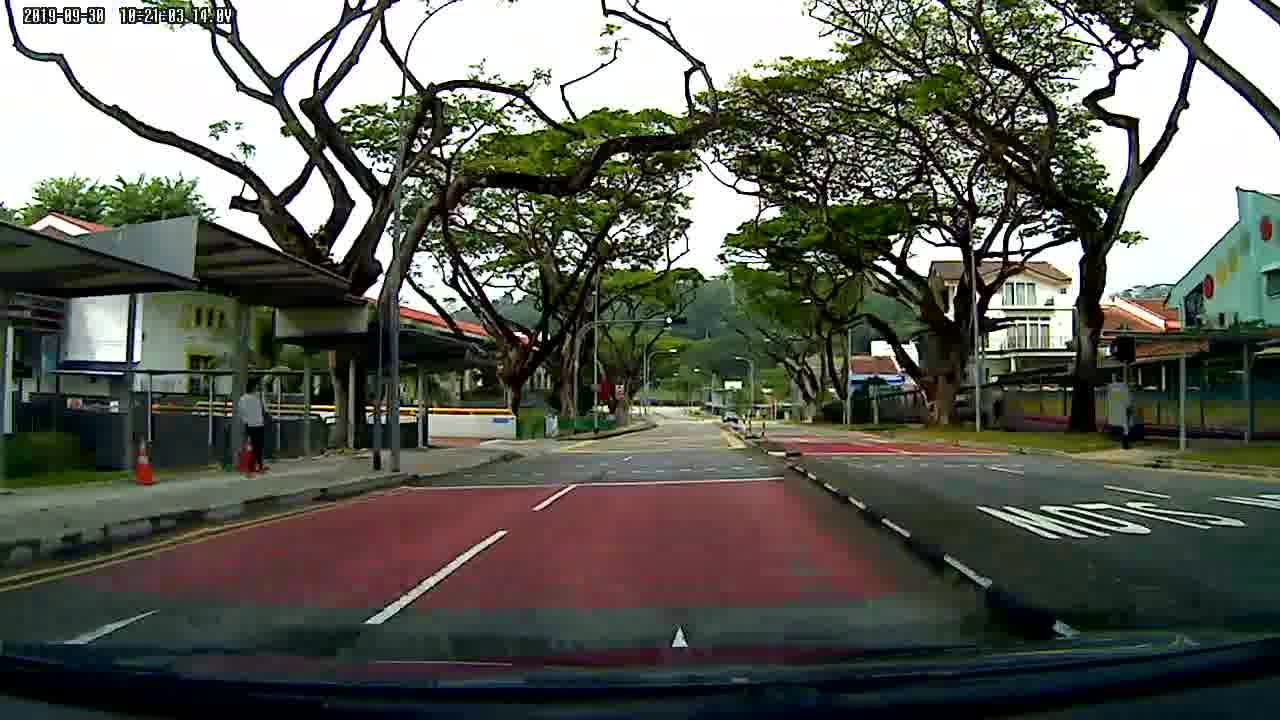car: (720, 408, 742, 424)
